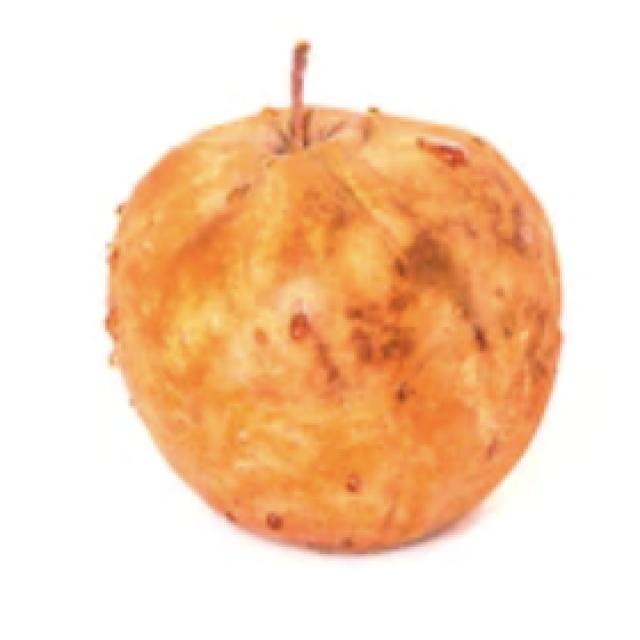Rotten: (107, 98, 563, 557)
